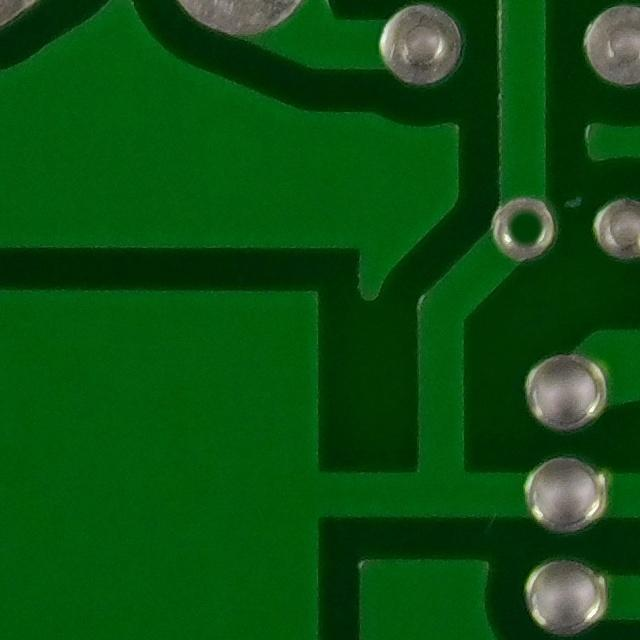missing_hole: (477, 190, 571, 270)
